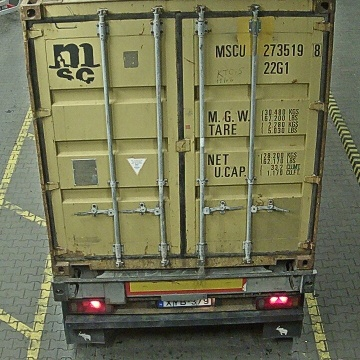serial_id: (215, 43, 320, 57)
